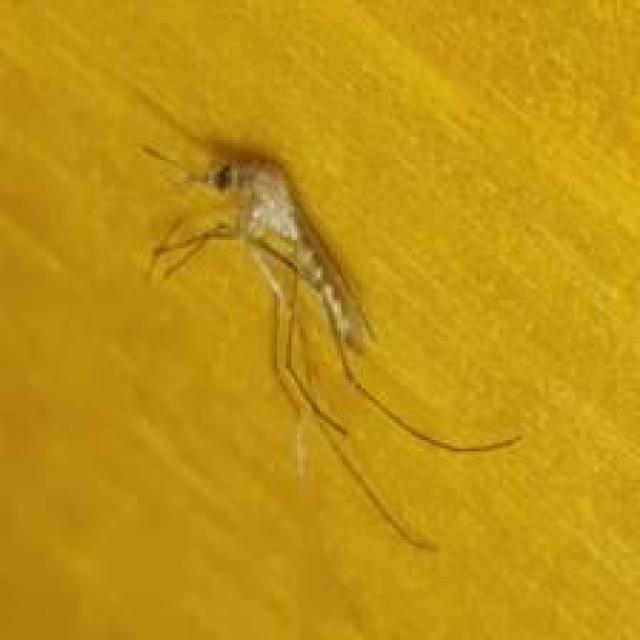Culex: (136, 136, 521, 553)
